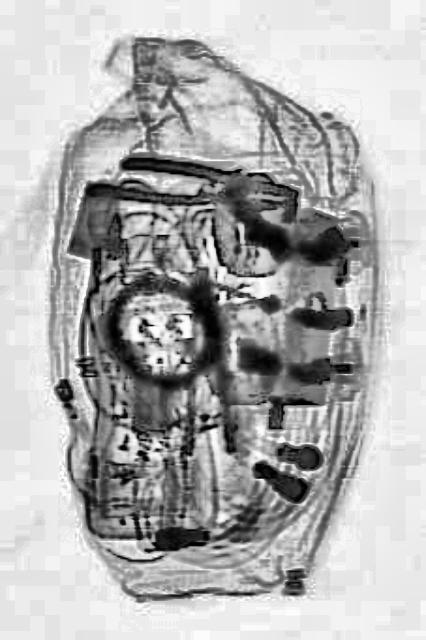Pliers: (84, 144, 298, 218)
